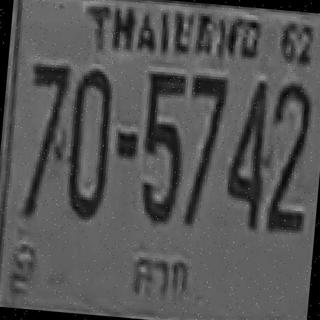N00: (136, 118, 184, 222)
N07: (27, 62, 69, 149), (186, 74, 228, 158)
P69: (122, 251, 195, 302)
